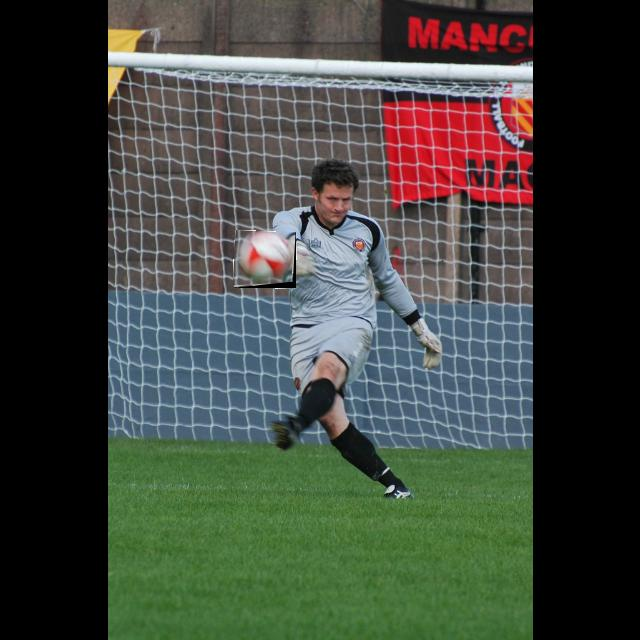Football: (234, 232, 296, 288)
